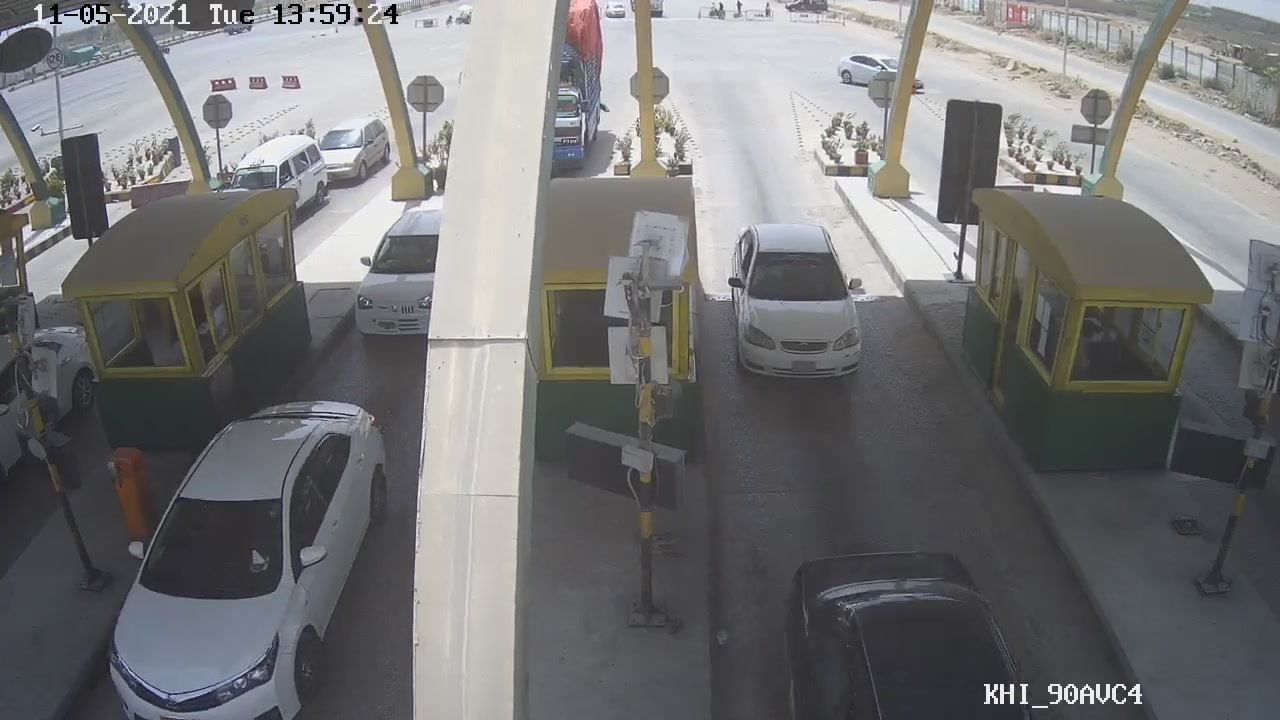F1: (725, 215, 870, 384)
